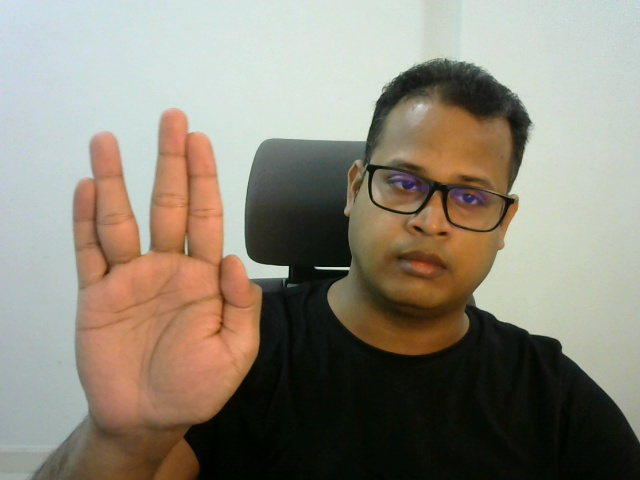LongLive: (71, 107, 263, 433)
